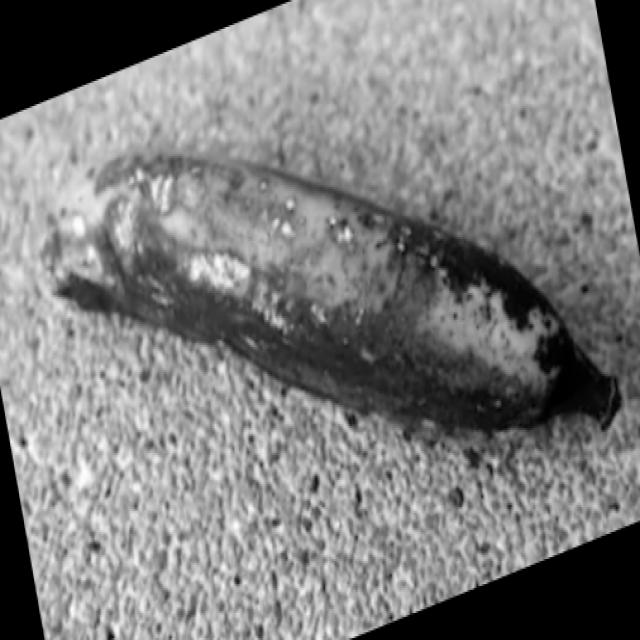Rotten: (16, 88, 631, 482)
